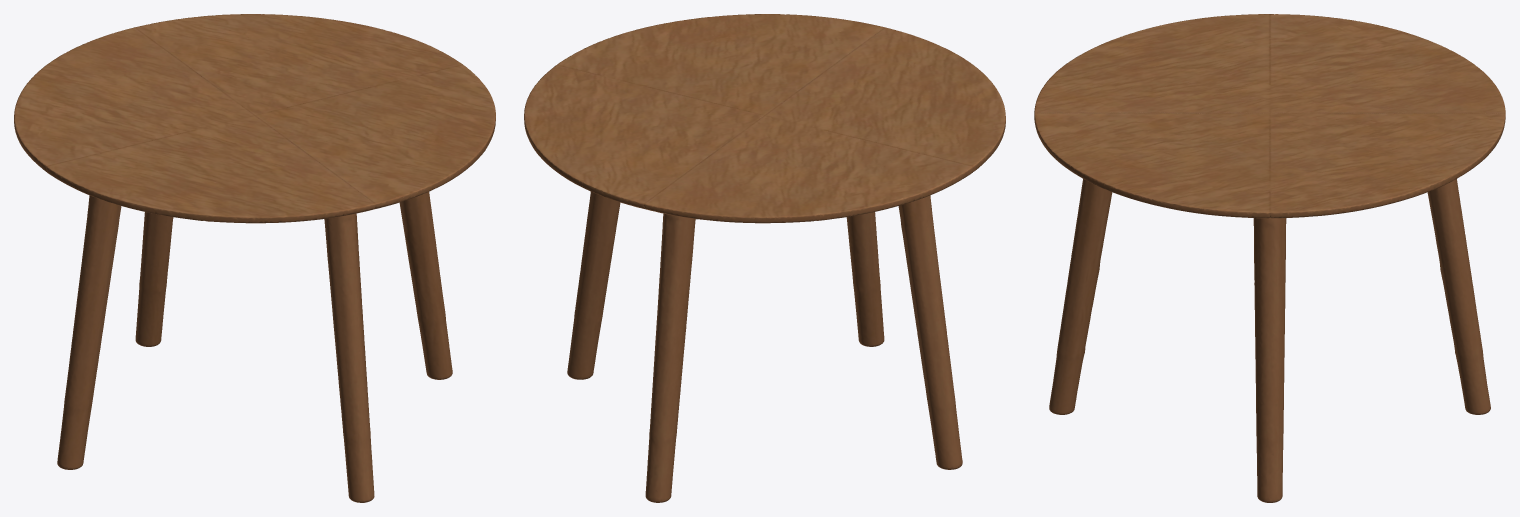
Rendered from unidentified_model_fdtwun.glb.
The picture shows the model from 3 angles, left to right: view 1: azimuth 30°, elevation 25°; view 2: azimuth 150°, elevation 25°; view 3: azimuth 270°, elevation 25°; orthographic projection. The views are drawn at different scales.
Visible parts, largest first — view 1: world; view 2: world; view 3: world.
Boxes of the visible parts, left/top/right/bottom form: world: left=14, top=14, right=495, bottom=502; world: left=524, top=14, right=1005, bottom=502; world: left=1034, top=14, right=1505, bottom=502.
Bounding box in the file's own units: 0.9985 × 0.6971 × 1.
Materials: 1 (1 with a texture image).
